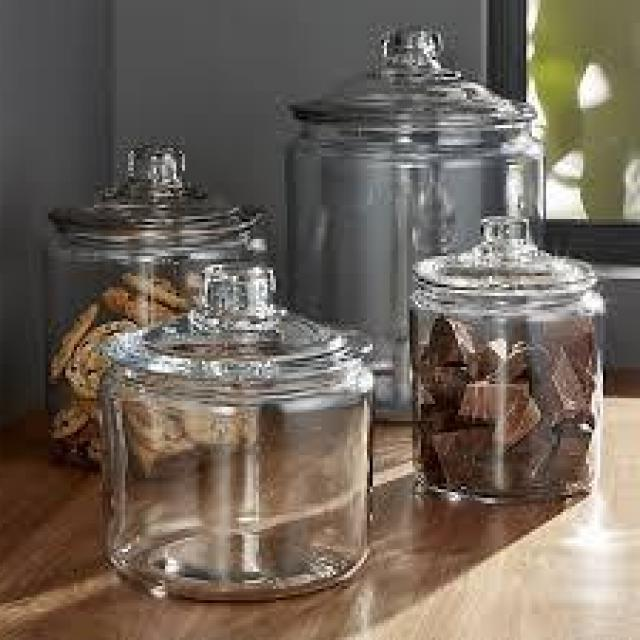glass: (94, 262, 382, 606), (401, 206, 612, 516)
